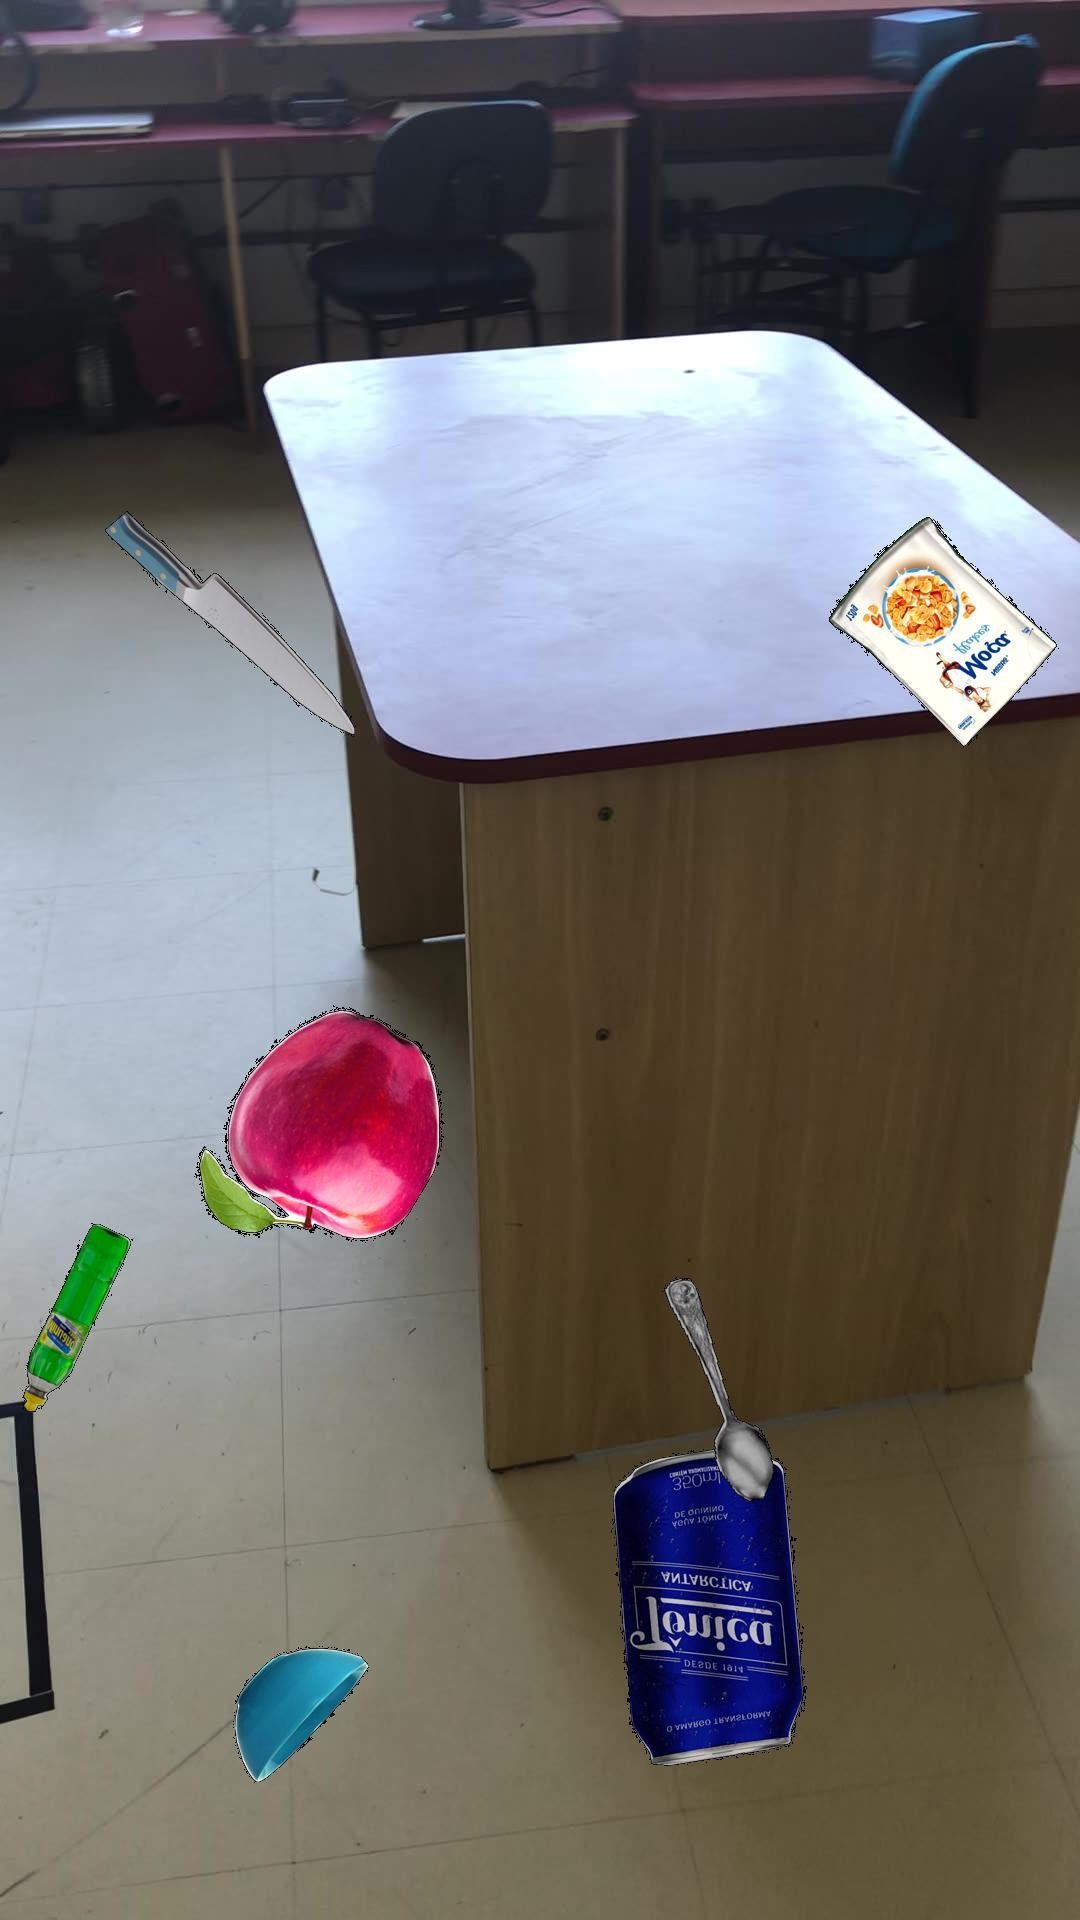apple: (194, 1006, 444, 1240)
bowl: (232, 1646, 368, 1780)
cleaner: (20, 1222, 130, 1410)
corn flakes: (828, 516, 1056, 746)
knife: (104, 510, 354, 734)
spoon: (662, 1276, 774, 1500)
tonic: (612, 1448, 806, 1764)
